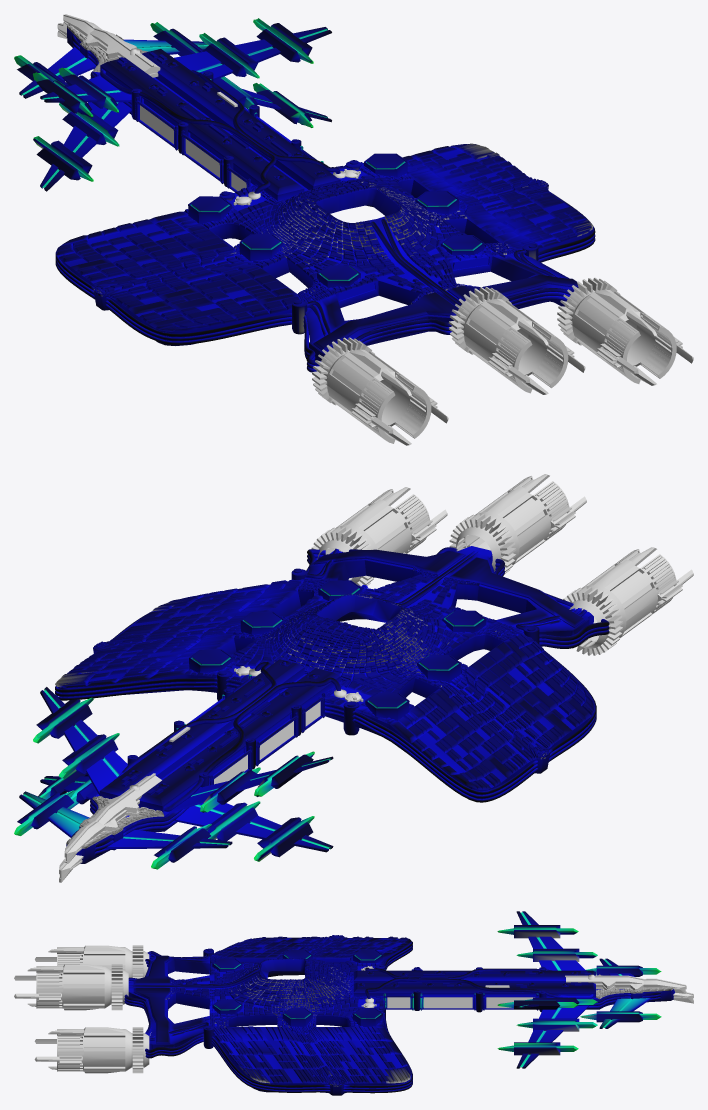
Rendered from ad_carrier_01.fbx.
The picture shows the model from 3 angles, top to bottom: view 1: azimuth 30°, elevation 25°; view 2: azimuth 150°, elevation 25°; view 3: azimuth 270°, elevation 25°; orthographic projection. The views are drawn at different scales.
Visible parts, largest first — view 1: ad_carrier_01; view 2: ad_carrier_01; view 3: ad_carrier_01.
Boxes of the visible parts, left/top/right/bottom form: ad_carrier_01: left=14, top=14, right=693, bottom=445; ad_carrier_01: left=14, top=474, right=693, bottom=882; ad_carrier_01: left=14, top=911, right=693, bottom=1095.
Size of the model in its own units: 4196 by 943 by 8024.
